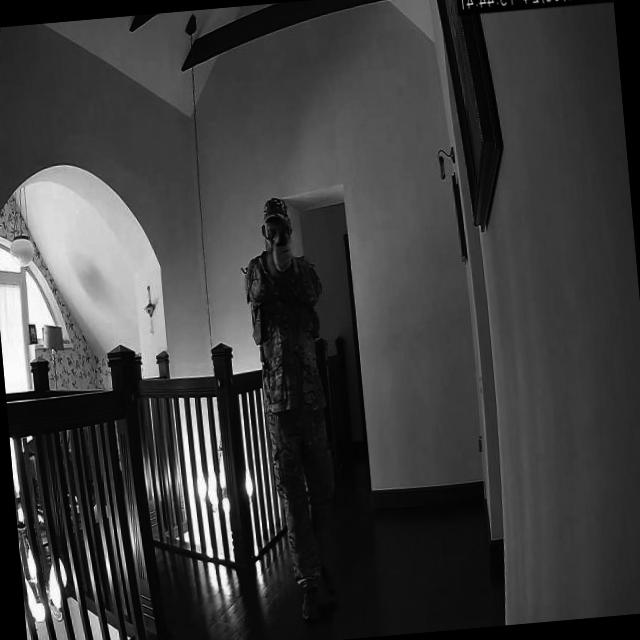gun: (258, 219, 305, 266)
person with a gun: (240, 190, 350, 624)
